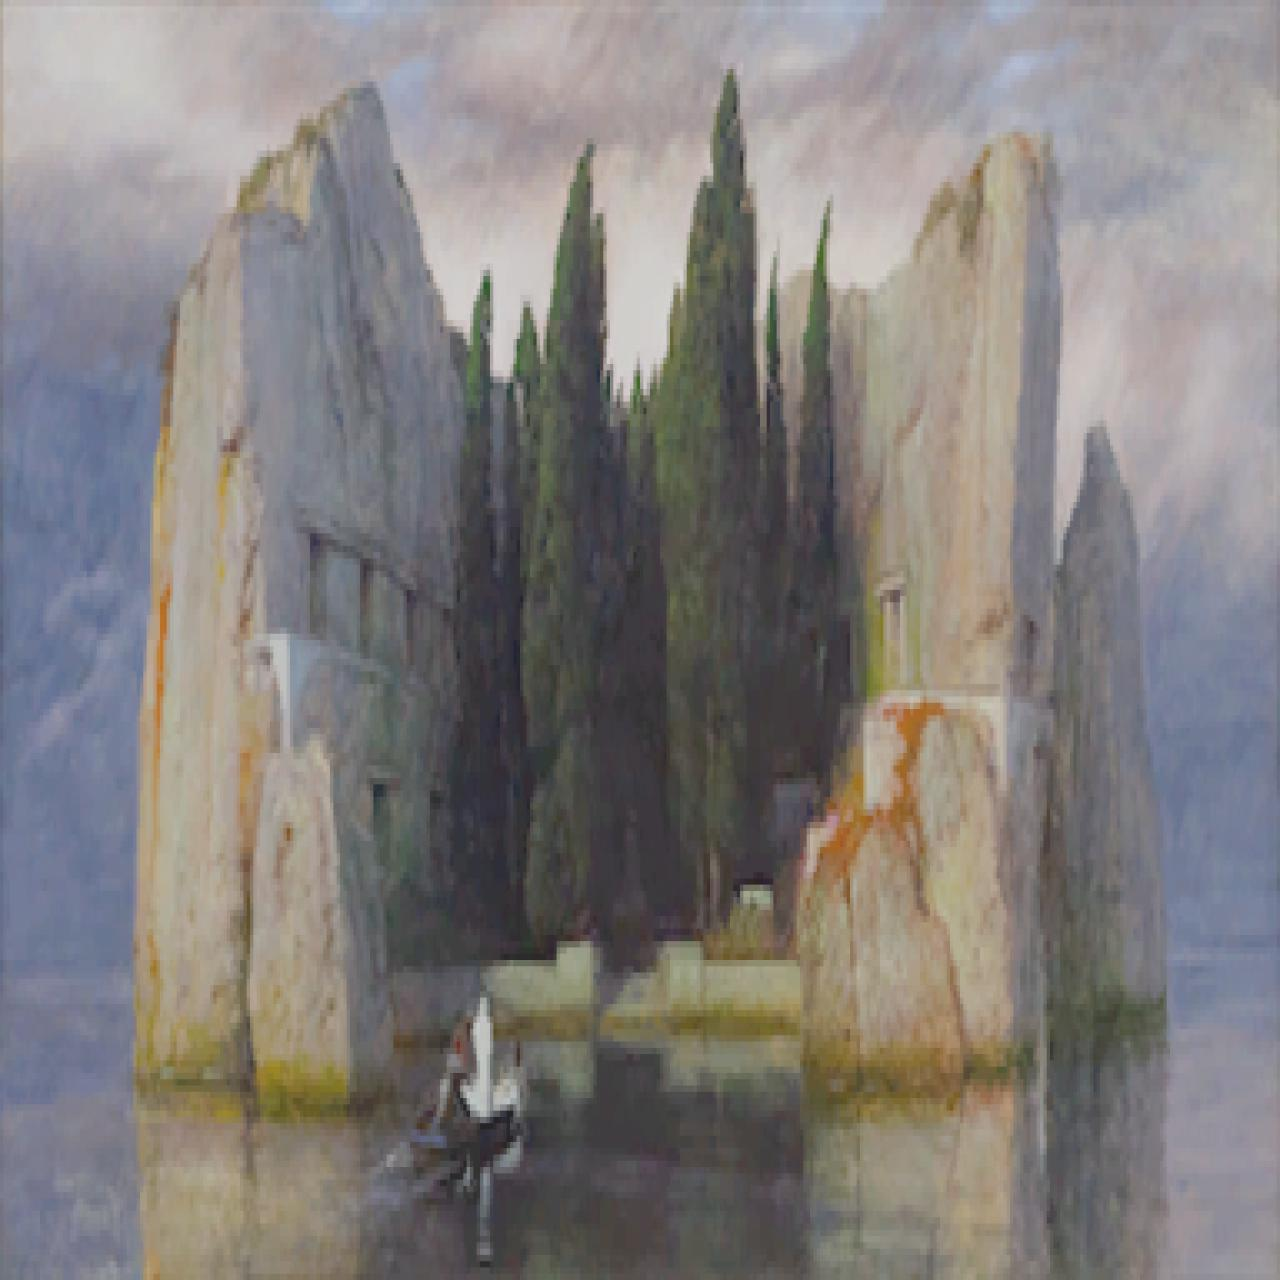IsleOfDead: (1, 1, 1278, 1275)
